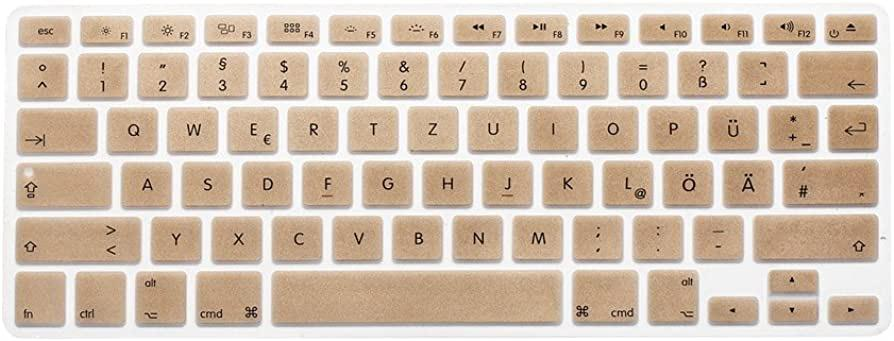0: (615, 49, 669, 99)
1: (74, 50, 128, 100)
2: (134, 50, 188, 100)
3: (195, 50, 249, 99)
4: (255, 49, 309, 98)
5: (315, 48, 369, 98)
6: (375, 49, 429, 99)
7: (434, 49, 489, 98)
8: (494, 49, 549, 99)
9: (555, 49, 609, 98)
a: (118, 159, 172, 208)
accent: (735, 48, 788, 97)
ae: (720, 156, 774, 206)
alt-left: (132, 269, 188, 327)
altgr-right: (644, 267, 699, 325)
b: (389, 212, 443, 260)
c: (268, 212, 323, 263)
caret: (13, 51, 68, 101)
comma: (568, 212, 623, 261)
d: (238, 158, 293, 207)
del: (794, 47, 878, 98)
e: (225, 104, 278, 153)
enter: (826, 102, 880, 151)
f: (300, 159, 353, 207)
g: (359, 158, 413, 207)
h: (419, 157, 473, 206)
hash: (780, 155, 880, 206)
i: (524, 103, 578, 151)
j: (480, 158, 532, 207)
k: (540, 158, 594, 206)
keyboard: (3, 7, 888, 336)
l: (600, 158, 653, 207)
less: (88, 215, 142, 263)
m: (508, 211, 563, 262)
minus: (689, 212, 743, 260)
n: (449, 212, 503, 261)
o: (584, 102, 639, 152)
oe: (659, 158, 714, 207)
p: (644, 102, 698, 152)
plus: (765, 102, 819, 151)
point: (630, 212, 684, 260)
q: (103, 104, 159, 154)
r: (284, 103, 339, 153)
s: (179, 159, 233, 207)
shift-left: (12, 212, 145, 264)
shift-lock: (13, 159, 111, 210)
shift-right: (750, 210, 877, 261)
space: (267, 267, 564, 325)
ss: (674, 48, 728, 98)
strg-left: (71, 270, 127, 328)
t: (345, 103, 399, 152)
tab: (13, 105, 97, 155)
u: (464, 102, 519, 153)
ue: (704, 102, 759, 152)
v: (329, 212, 384, 261)
w: (164, 102, 219, 153)
x: (209, 213, 264, 262)
y: (148, 214, 202, 262)
z: (405, 103, 459, 152)
